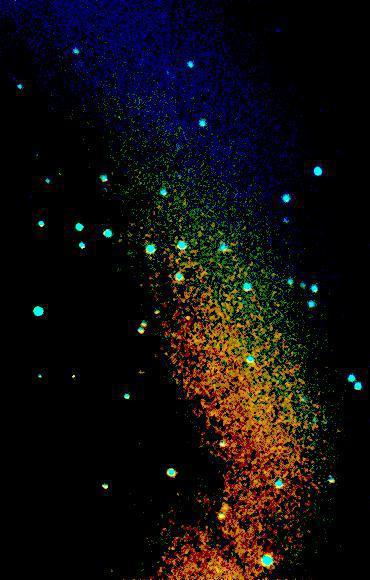star: (173, 299, 203, 329)
